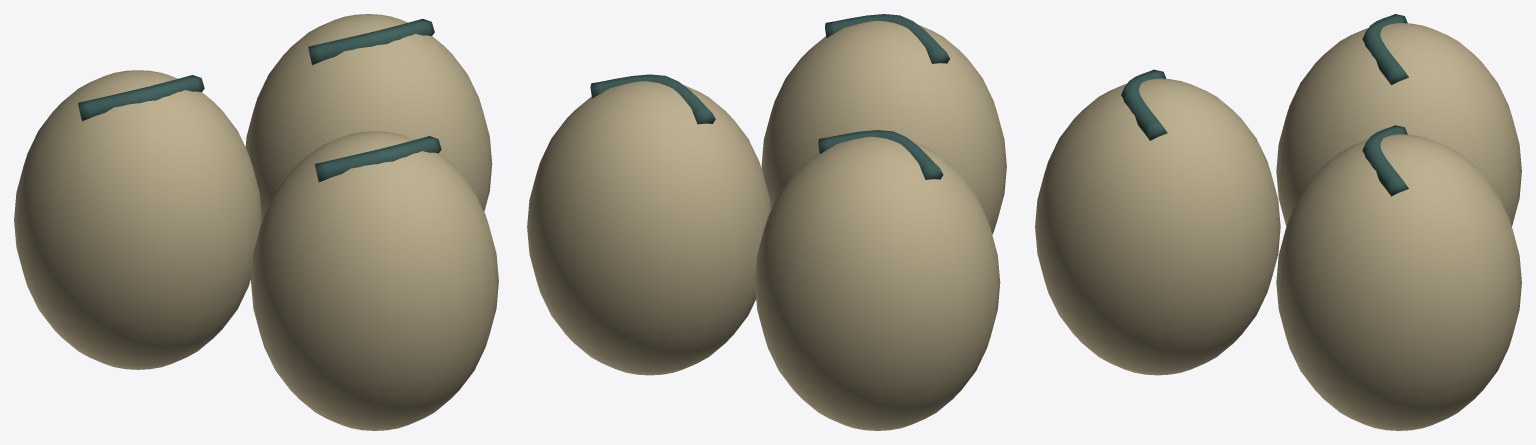
Rendered from cargo_bundle.glb.
3 renders of one model, left to right at view 1: azimuth 30°, elevation 25°; view 2: azimuth 150°, elevation 25°; view 3: azimuth 270°, elevation 25°, orthographic.
Parts seen in each view (by area): view 1: cargo_bundle_part_0; view 2: cargo_bundle_part_0; view 3: cargo_bundle_part_0.
Part boxes in pixels (<box>): cargo_bundle_part_0: <box>14,14,498,430</box>; cargo_bundle_part_0: <box>527,14,1006,430</box>; cargo_bundle_part_0: <box>1035,14,1521,430</box>.
Bounding box in the file's own units: 1.16 × 0.702 × 1.11.
